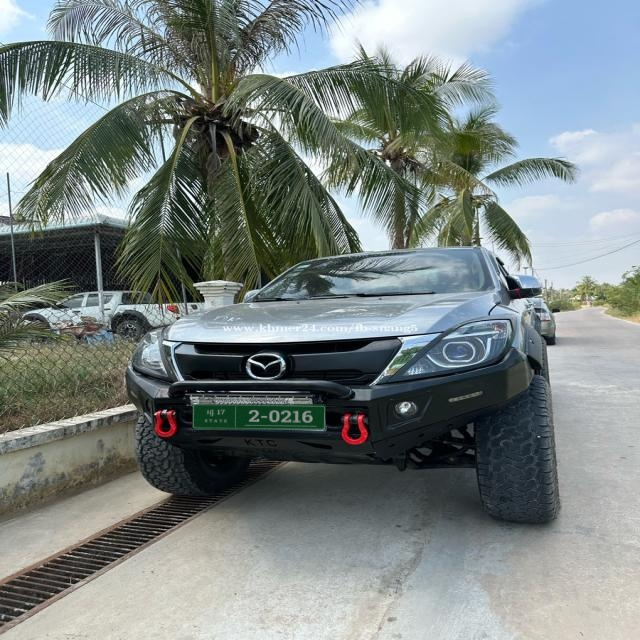Plate Number: (193, 404, 326, 431)
